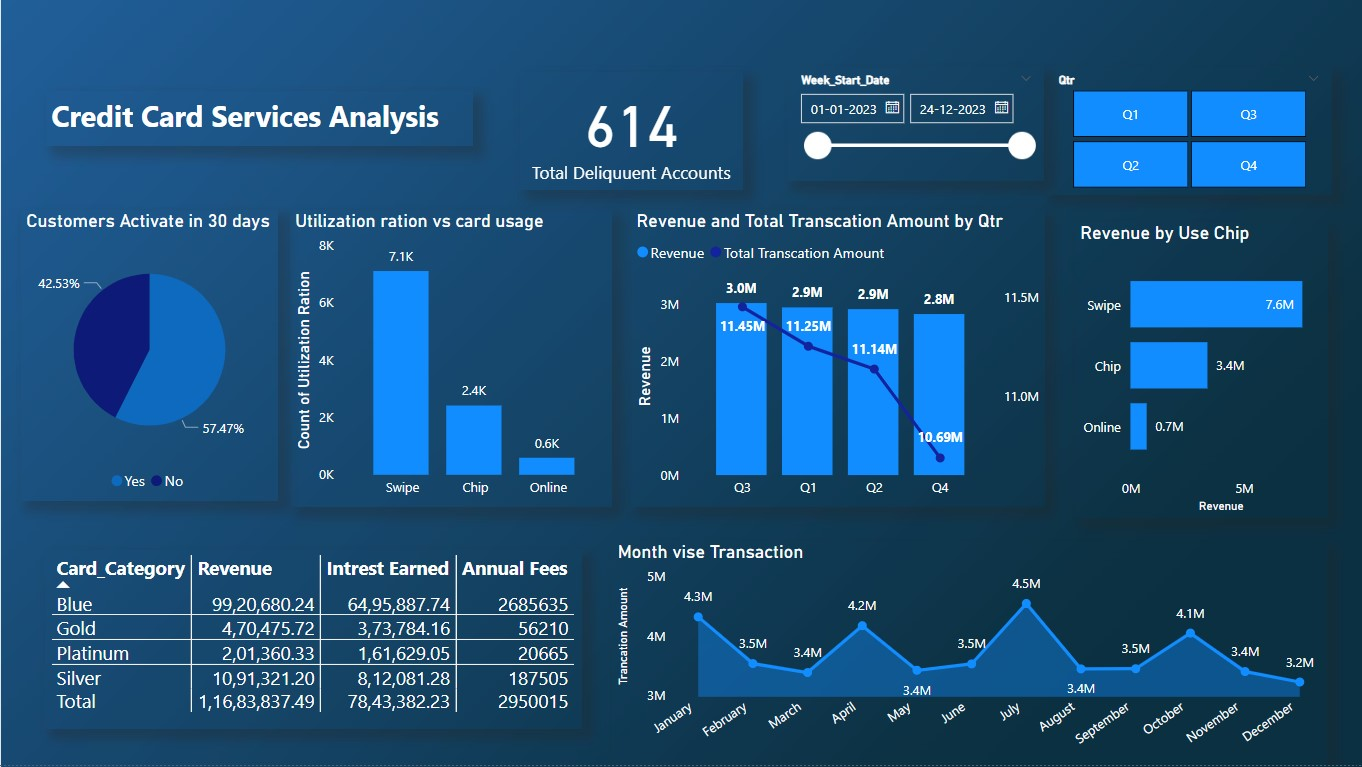

The dashboard page shown, as its layout file describes it:
{"tool":"powerbi","page":{"name":"Card services analysis","canvas":[1280,720],"ordinal":0},"visuals":[{"type":"areaChart","title":"Month vise Transaction","fields":{"Category":["credit_card.Week_Start_Date.Variation.Date Hierarchy.Month"],"Y":["Sum(credit_card.Total_Trans_Amt)"]},"box":[577.9,511.6,665.1,208.1],"z":0},{"type":"tableEx","fields":{"Values":["credit_card.Card_Category","credit_card.Revenue","credit_card.Intrest Earned","credit_card.Annual  Fees"]},"box":[50,519.8,500,166.3],"z":1000},{"type":"barChart","fields":{"Y":["credit_card.Revenue"],"Category":["credit_card.Use Chip"]},"box":[1008.1,215.1,234.9,275.6],"z":2000},{"type":"lineClusteredColumnComboChart","fields":{"Category":["credit_card.Qtr"],"Y2":["credit_card.Total Transcation Amount"],"Y":["credit_card.Revenue"]},"box":[595.4,203.5,384.9,276.7],"z":3000},{"type":"clusteredColumnChart","title":"Utilization ration vs card usage","fields":{"Y":["CountNonNull(credit_card.Avg_Utilization_Ratio)"],"Category":["credit_card.Use Chip"]},"box":[277.9,203.5,300,276.7],"z":4000},{"type":"pieChart","title":"Customers Activate in 30 days","fields":{"Category":["credit_card.Activation_30_Days"],"Y":["CountNonNull(credit_card.Client_Num)"]},"box":[27.9,203.5,239.5,270.9],"z":5000},{"type":"slicer","fields":{"Values":["credit_card.Qtr"]},"box":[980.2,70.9,267.4,118.6],"z":6000},{"type":"slicer","fields":{"Values":["credit_card.Week_Start_Date"]},"box":[740.7,70.9,239.5,105.8],"z":7000},{"type":"card","fields":{"Values":["credit_card.Total Deliquuent Accounts"]},"box":[491.9,75.6,208.1,109.3],"z":8000},{"type":"textbox","box":[51.2,93,397.7,51.2],"z":9000}]}

Visuals, with their boxes in screenshot pixels (x1, y1, x2, y2), scaled from the page's 1280x720 canvas onto the 1362x767 screenshot:
"Month vise Transaction" areaChart: 615,545,1323,766
tableEx - credit_card.Card_Category x credit_card.Revenue: 53,554,585,731
barChart - credit_card.Revenue x credit_card.Use Chip: 1073,229,1323,523
lineClusteredColumnComboChart - credit_card.Qtr x credit_card.Total Transcation Amount: 634,217,1043,512
"Utilization ration vs card usage" clusteredColumnChart: 296,217,615,512
"Customers Activate in 30 days" pieChart: 30,217,285,505
slicer - credit_card.Qtr: 1043,76,1328,202
slicer - credit_card.Week_Start_Date: 788,76,1043,188
card - credit_card.Total Deliquuent Accounts: 523,81,745,197
textbox: 54,99,478,154
